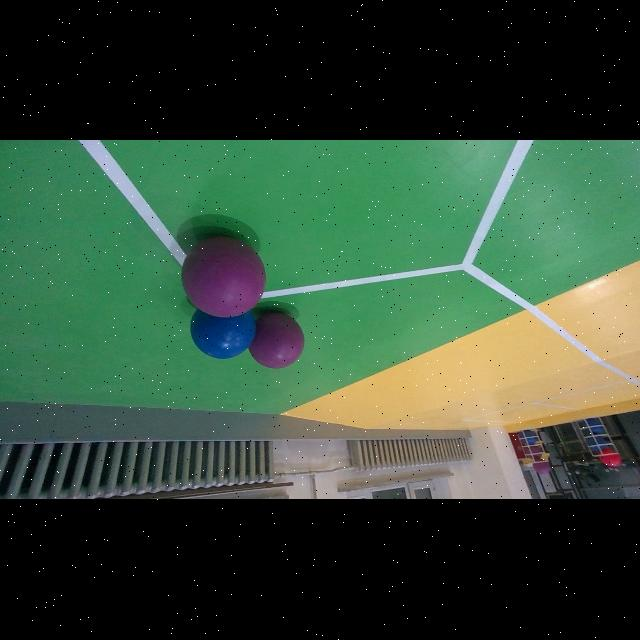B: (190, 308, 256, 359)
P: (182, 235, 266, 318), (248, 311, 304, 369)
